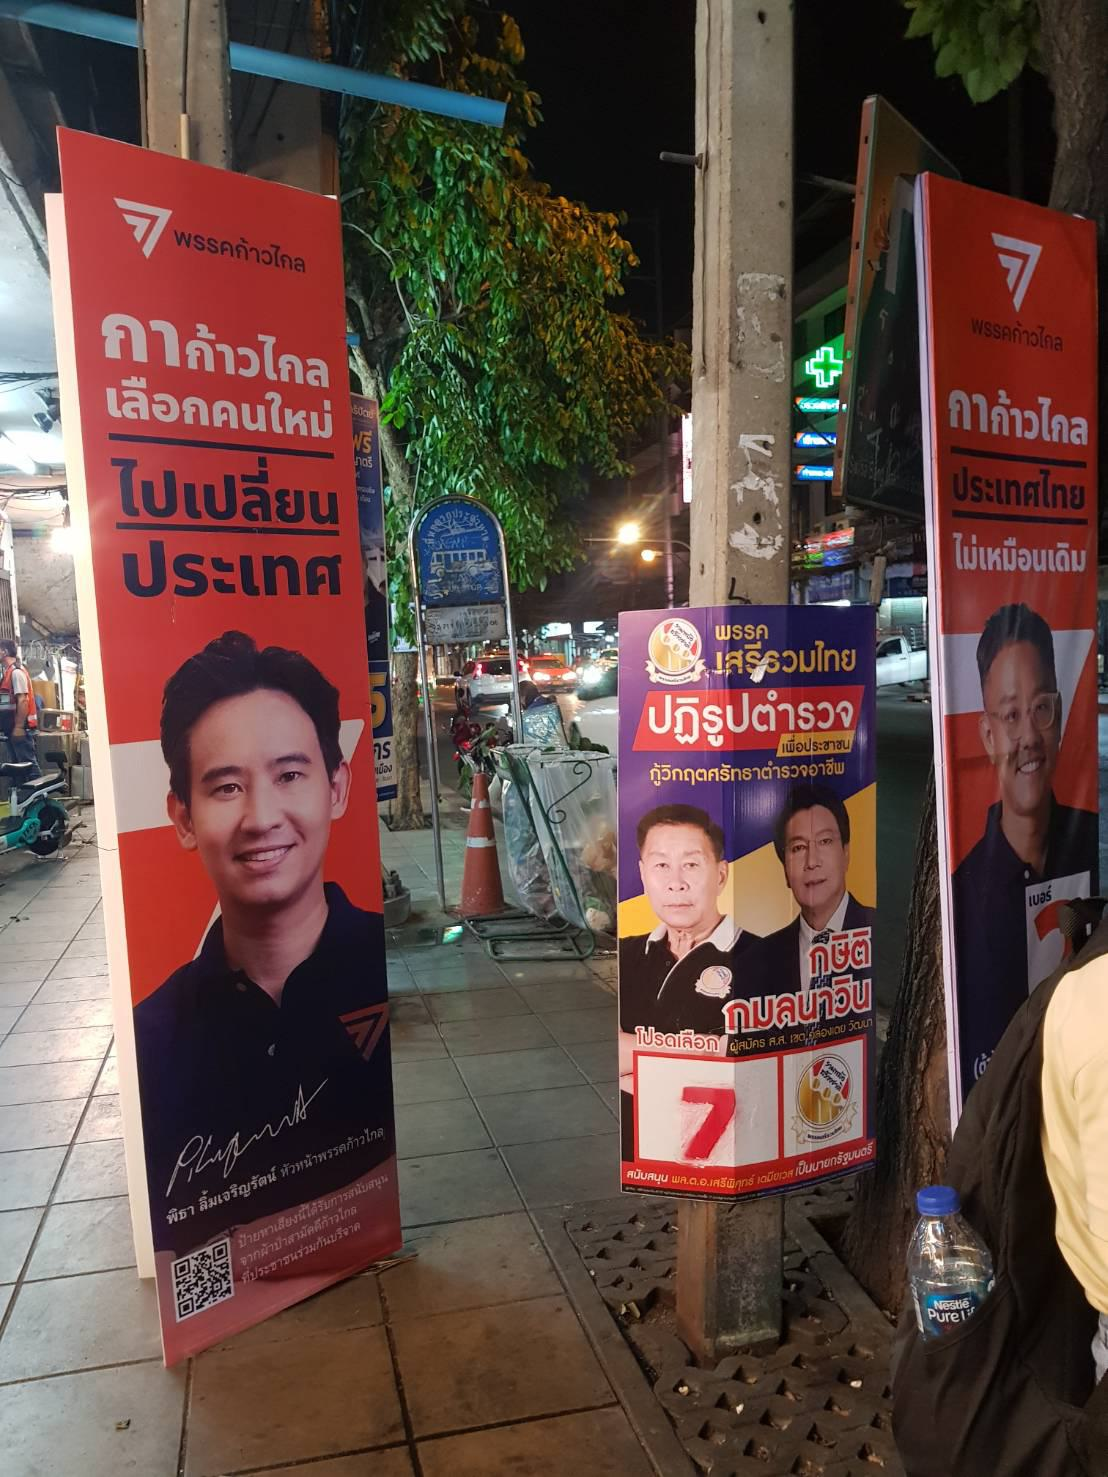Banner: (56, 125, 403, 1363), (919, 179, 1098, 1128), (617, 608, 876, 1193)
